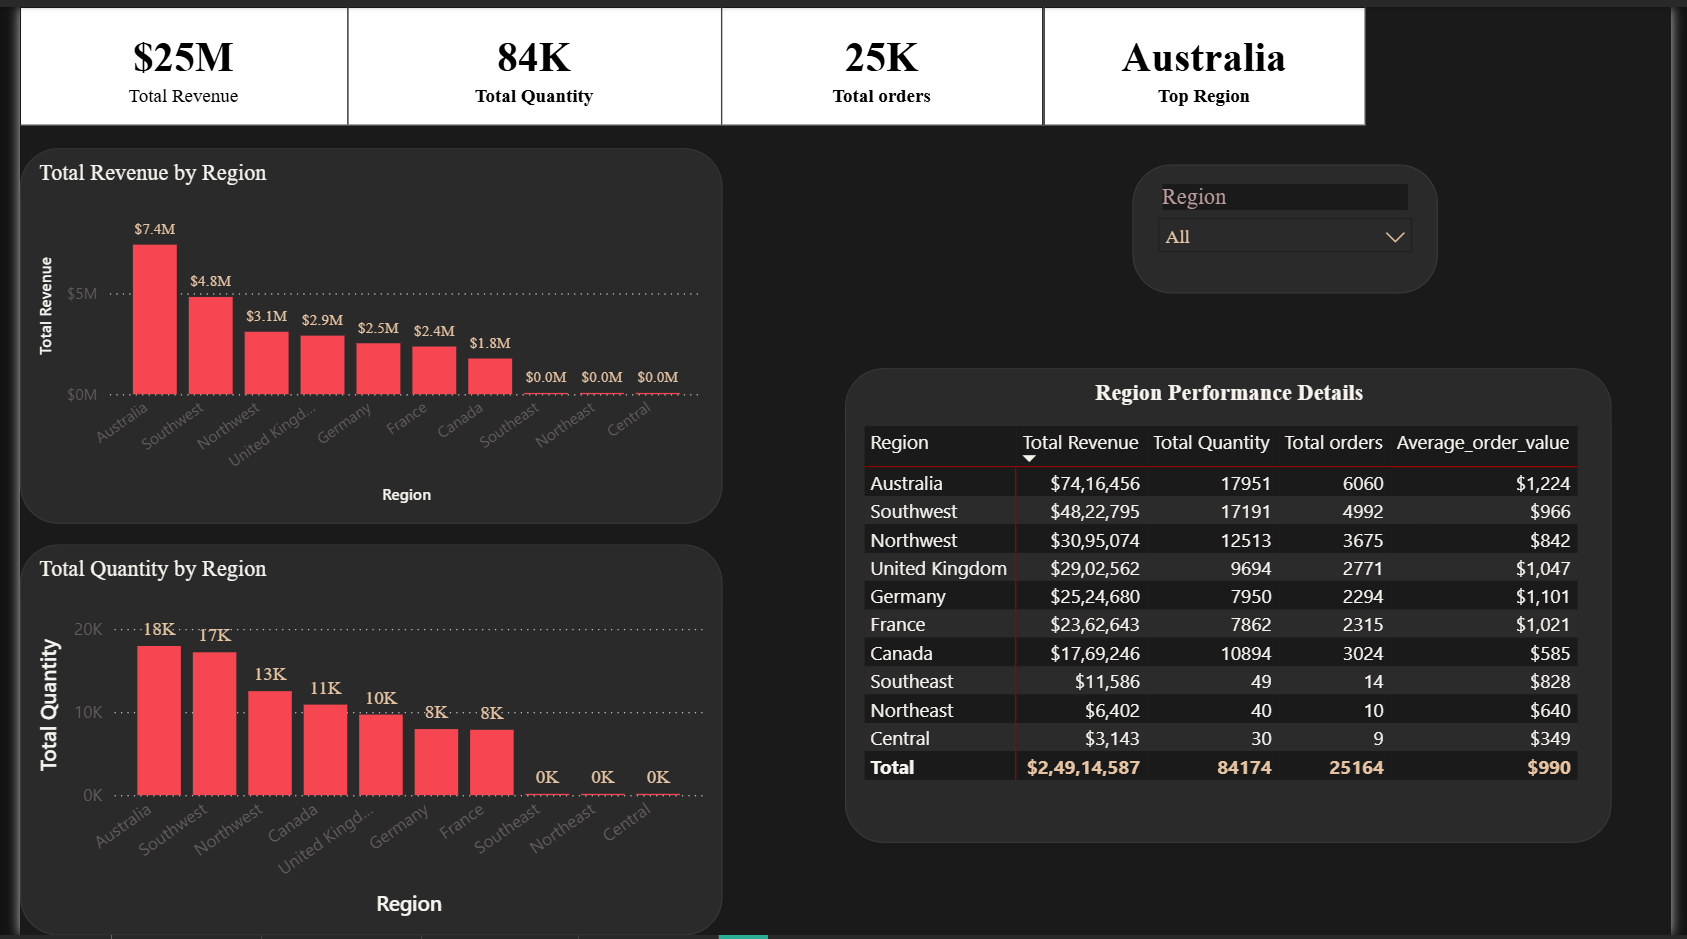

Layout of this report page (visuals, bound fields, positions):
{"tool":"powerbi","page":{"name":"Region Analysis","canvas":[1280,720],"ordinal":2},"visuals":[{"type":"card","fields":{"Values":["sales.Total Revenue"]},"box":[0,0,254.1,92.3],"z":0},{"type":"card","fields":{"Values":["sales.Total_Order_Quantity"]},"box":[254.1,0,290,92.3],"z":1000},{"type":"card","fields":{"Values":["sales.Total orders"]},"box":[544.1,0,249.3,92.3],"z":2000},{"type":"card","fields":{"Values":["Territory.Top Region"]},"box":[793.5,0,249.3,92.3],"z":3000},{"type":"clusteredColumnChart","fields":{"Y":["sales.Total Revenue"],"Category":["Territory.Region"]},"box":[0,110,544.4,291.1],"z":4000},{"type":"clusteredColumnChart","fields":{"Category":["Territory.Region"],"Y":["sales.Total Quantity"]},"box":[0,416.7,544.4,303.3],"z":5000},{"type":"pivotTable","title":"Region Performance Details","fields":{"Rows":["Territory.Region"],"Values":["sales.Total Revenue","sales.Total Quantity","sales.Total orders","sales.Average_order_value"]},"box":[640,280,594.4,367.8],"z":6000},{"type":"slicer","fields":{"Values":["Territory.Region"]},"box":[863,122,236.7,100],"z":6001}]}

Visuals, with their boxes in screenshot pixels (x1, y1, x2, y2), scaled from the page's 1280x720 canvas onto the 1687x939 screenshot:
card - sales.Total Revenue: BBox(0, 0, 335, 120)
card - sales.Total_Order_Quantity: BBox(335, 0, 717, 120)
card - sales.Total orders: BBox(717, 0, 1046, 120)
card - Territory.Top Region: BBox(1046, 0, 1374, 120)
clusteredColumnChart - sales.Total Revenue x Territory.Region: BBox(0, 143, 718, 523)
clusteredColumnChart - Territory.Region x sales.Total Quantity: BBox(0, 543, 718, 938)
"Region Performance Details" pivotTable: BBox(844, 365, 1627, 845)
slicer - Territory.Region: BBox(1137, 159, 1449, 290)
